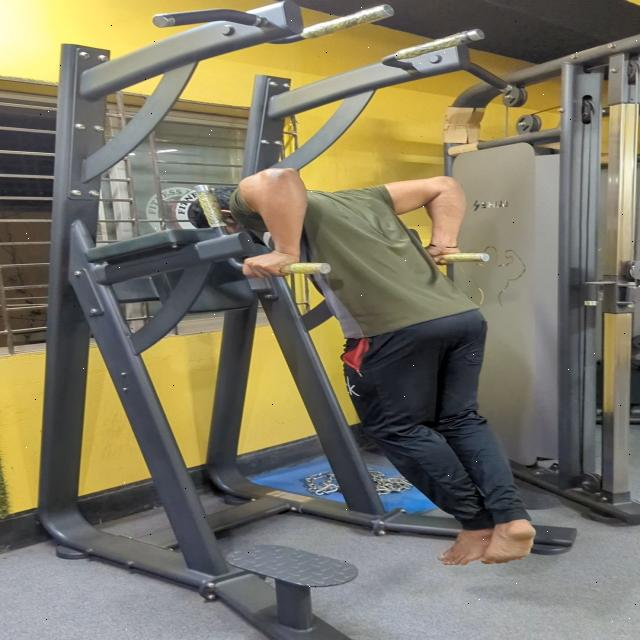Normal_Dips: (118, 149, 640, 590)
